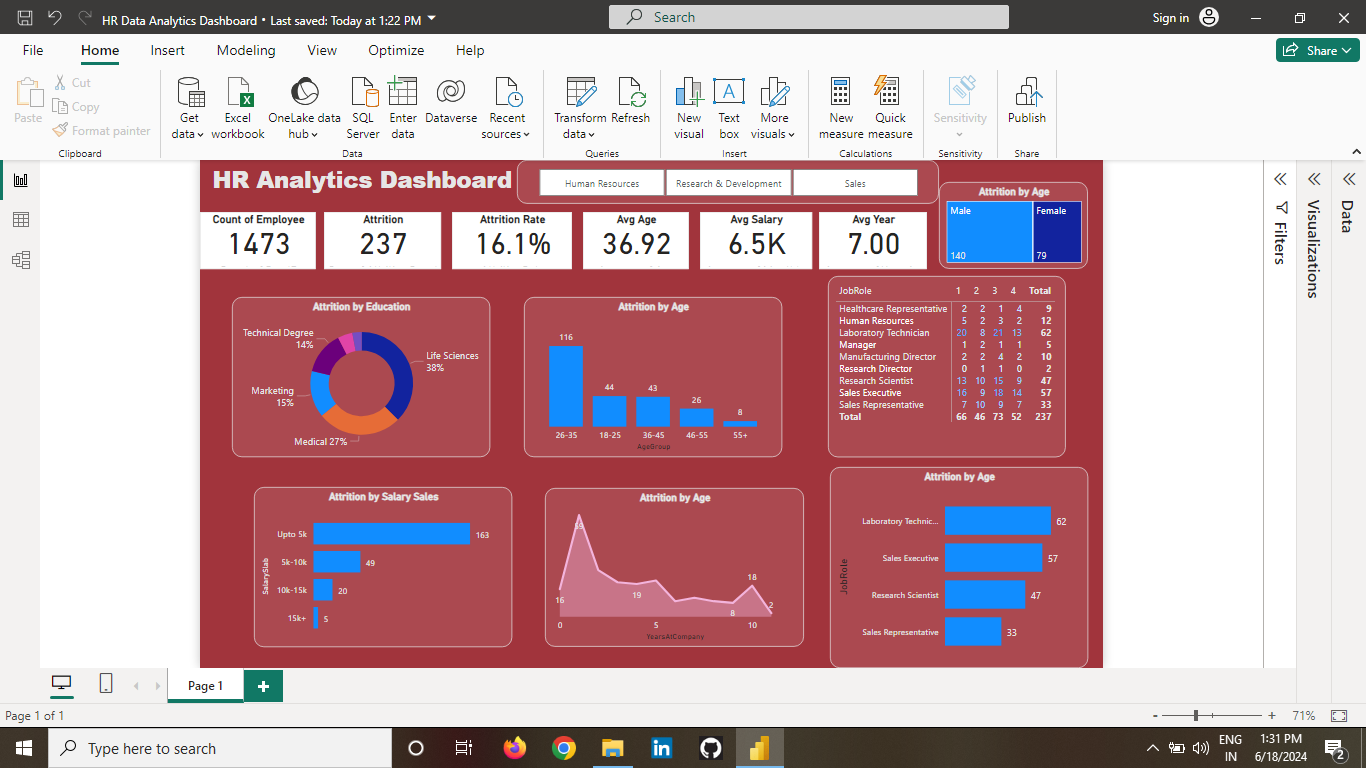

This screenshot's page, from the dashboard's own definition file:
{"tool":"powerbi","page":{"name":"Page 1","canvas":[1280,720],"ordinal":0},"visuals":[{"type":"card","title":"Count of Employee","fields":{"Values":["CountNonNull(HR_Analytics.EmpID)"]},"box":[0,73.7,164.4,80.8],"z":0},{"type":"card","title":"Attrition","fields":{"Values":["Sum(HR_Analytics.AttritionCount)"]},"box":[175.7,73.7,165.8,80.8],"z":1000},{"type":"card","title":"Attrition Rate","fields":{"Values":["HR_Analytics.AttritionRate"]},"box":[357.2,73.7,170.1,80.8],"z":2000},{"type":"card","title":"Avg Salary","fields":{"Values":["Avg(HR_Analytics.MonthlyIncome)"]},"box":[708.7,73.7,158.7,80.8],"z":3000},{"type":"card","title":"Avg Age","fields":{"Values":["Avg(HR_Analytics.Age)"]},"box":[542.8,73.7,150.2,80.8],"z":4000},{"type":"card","title":"Avg Year","fields":{"Values":["Avg(HR_Analytics.YearsAtCompany)"]},"box":[877.3,73.7,153.1,80.8],"z":5000},{"type":"donutChart","title":"Attrition by Education","fields":{"Category":["HR_Analytics.EducationField"],"Y":["Sum(HR_Analytics.AttritionCount)"]},"box":[45.4,194.2,365.7,226.8],"z":6000},{"type":"columnChart","title":"Attrition by Age","fields":{"Y":["Sum(HR_Analytics.AttritionCount)"],"Category":["HR_Analytics.AgeGroup"]},"box":[459.2,194.2,365.7,226.8],"z":7000},{"type":"pivotTable","fields":{"Rows":["HR_Analytics.JobRole"],"Columns":["HR_Analytics.JobSatisfaction"],"Values":["Sum(HR_Analytics.AttritionCount)"]},"box":[890.1,164.4,337.3,256.5],"z":8000},{"type":"barChart","title":"Attrition by Salary Sales","fields":{"Category":["HR_Analytics.SalarySlab"],"Y":["Sum(HR_Analytics.AttritionCount)"]},"box":[76.5,463.5,365.7,226.8],"z":9000},{"type":"barChart","title":"Attrition by Age","fields":{"Y":["Sum(HR_Analytics.AttritionCount)"],"Category":["HR_Analytics.JobRole"]},"box":[892.9,435.1,365.7,284.9],"z":10000},{"type":"areaChart","title":"Attrition by Age","fields":{"Category":["HR_Analytics.YearsAtCompany"],"Y":["Sum(HR_Analytics.AttritionCount)"]},"box":[489,464.9,367.1,225.4],"z":11000},{"type":"treemap","title":"Attrition by Age","fields":{"Group":["HR_Analytics.Gender"],"Values":["Sum(HR_Analytics.AttritionCount)"]},"box":[1047.4,31.2,211.2,123.3],"z":12000},{"type":"slicer","fields":{"Values":["HR_Analytics.Department"]},"box":[449.3,0,598.1,62.4],"z":13000},{"type":"textbox","box":[12.8,0,521.6,73.7],"z":14000}]}

Visuals, with their boxes on the page's 1280x720 design canvas (x1, y1, x2, y2). These are canvas units, not pixel positions in the 1366x768 screenshot, which may show the page scaled, cropped or inside an application window:
"Count of Employee" card: [left=0, top=74, right=164, bottom=154]
"Attrition" card: [left=176, top=74, right=342, bottom=154]
"Attrition Rate" card: [left=357, top=74, right=527, bottom=154]
"Avg Salary" card: [left=709, top=74, right=867, bottom=154]
"Avg Age" card: [left=543, top=74, right=693, bottom=154]
"Avg Year" card: [left=877, top=74, right=1030, bottom=154]
"Attrition by Education" donutChart: [left=45, top=194, right=411, bottom=421]
"Attrition by Age" columnChart: [left=459, top=194, right=825, bottom=421]
pivotTable - HR_Analytics.JobRole x HR_Analytics.JobSatisfaction: [left=890, top=164, right=1227, bottom=421]
"Attrition by Salary Sales" barChart: [left=76, top=464, right=442, bottom=690]
"Attrition by Age" barChart: [left=893, top=435, right=1259, bottom=720]
"Attrition by Age" areaChart: [left=489, top=465, right=856, bottom=690]
"Attrition by Age" treemap: [left=1047, top=31, right=1259, bottom=154]
slicer - HR_Analytics.Department: [left=449, top=0, right=1047, bottom=62]
textbox: [left=13, top=0, right=534, bottom=74]
